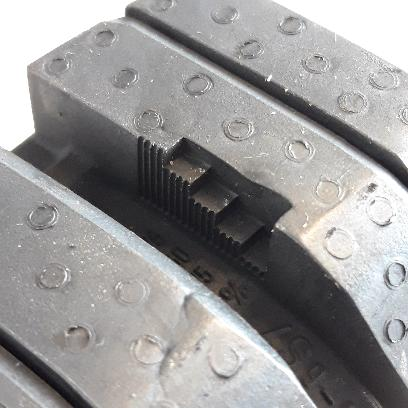temoin:100: (133, 131, 295, 287)
